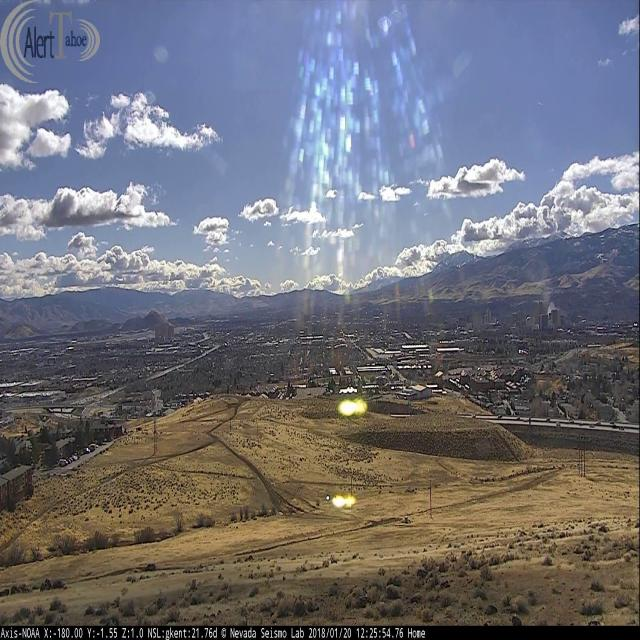smoke: (538, 296, 570, 330)
